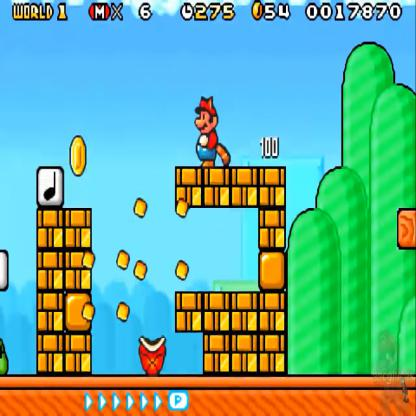Mario: (192, 96, 233, 168)
caparazon: (135, 328, 170, 377)
moneda: (71, 132, 89, 177), (251, 0, 265, 27)
